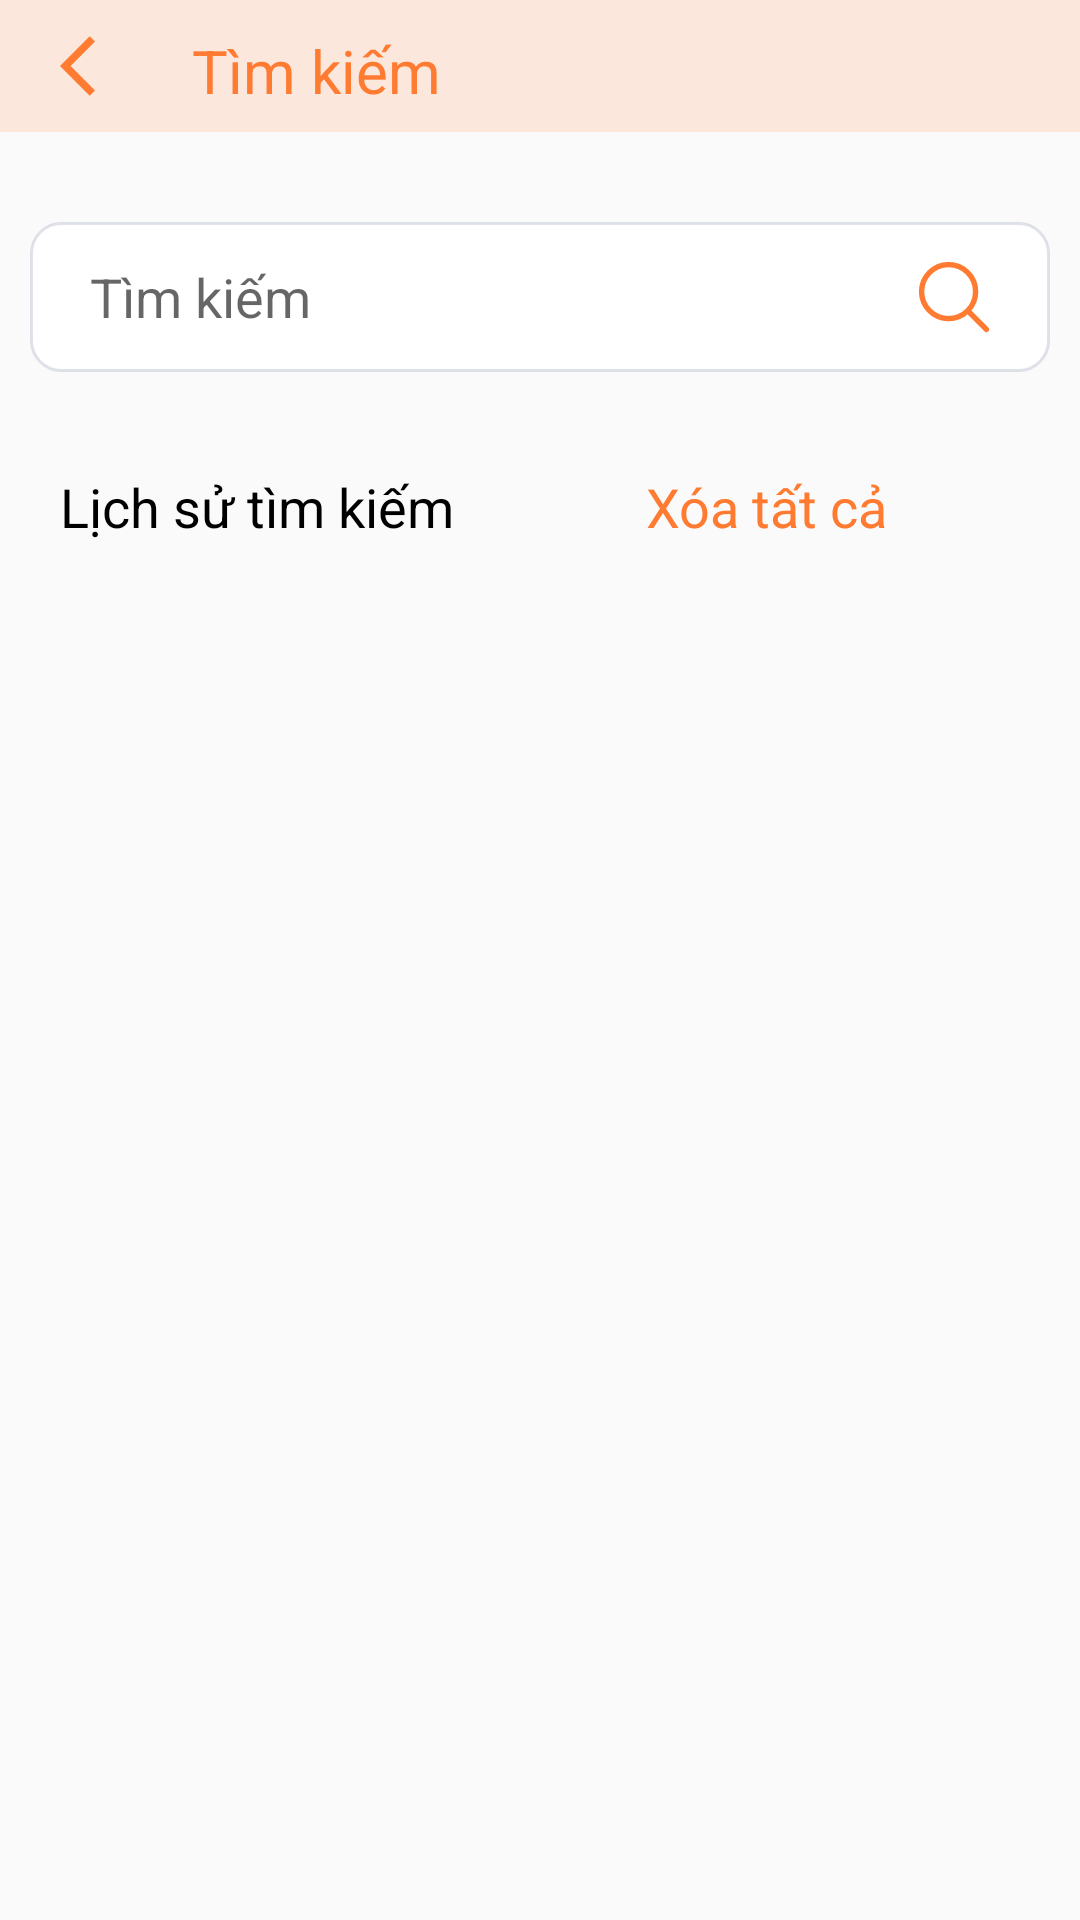

Where icons sit on this 1080px×1920px app screen, as (x1, y1, x2, y2):
back: (60, 36, 95, 96)
search: (919, 262, 990, 333)
